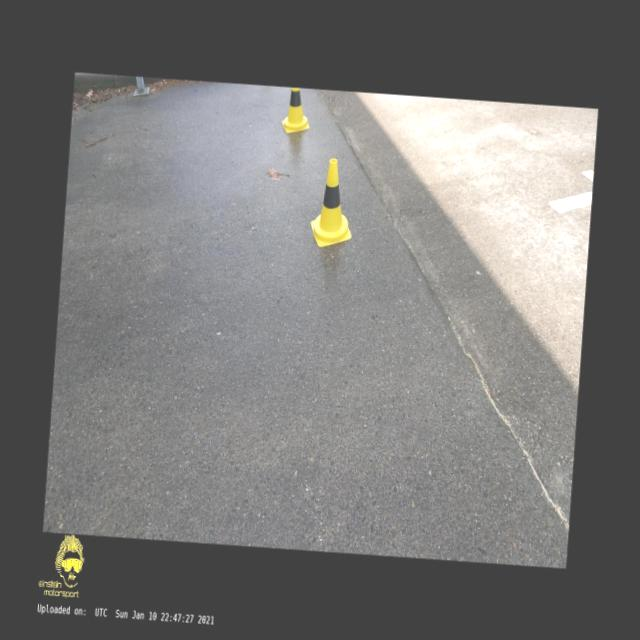yellow_cone: (308, 156, 356, 249), (280, 86, 312, 134)
